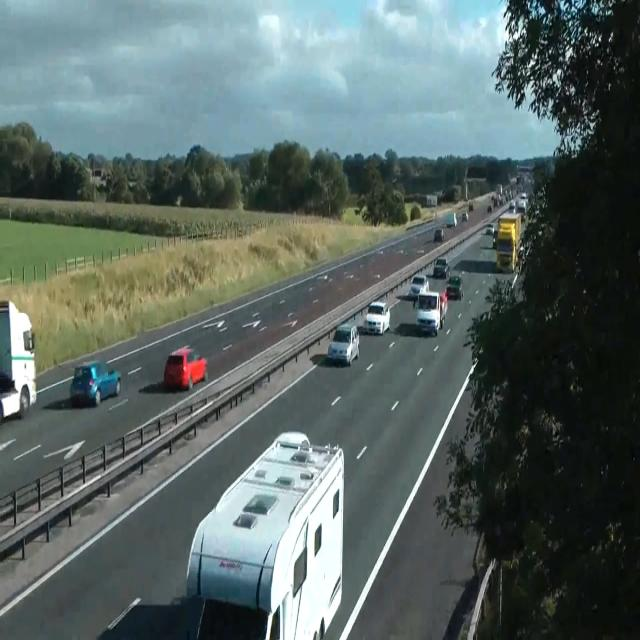bus: (70, 360, 121, 406), (0, 369, 20, 421), (433, 257, 449, 277), (433, 228, 445, 242), (316, 273, 332, 283), (516, 200, 526, 212), (492, 229, 498, 249), (486, 222, 494, 235), (509, 200, 515, 212), (468, 201, 473, 211), (462, 212, 468, 220), (520, 192, 526, 199), (487, 205, 491, 212)
car: (186, 430, 344, 638)
jeep: (163, 344, 207, 390), (414, 290, 446, 336), (326, 322, 359, 366), (366, 300, 390, 334), (409, 274, 429, 298), (445, 274, 463, 298)
minibus: (0, 298, 36, 421), (496, 211, 524, 273), (90, 168, 107, 188), (445, 212, 457, 226), (426, 194, 438, 207)
